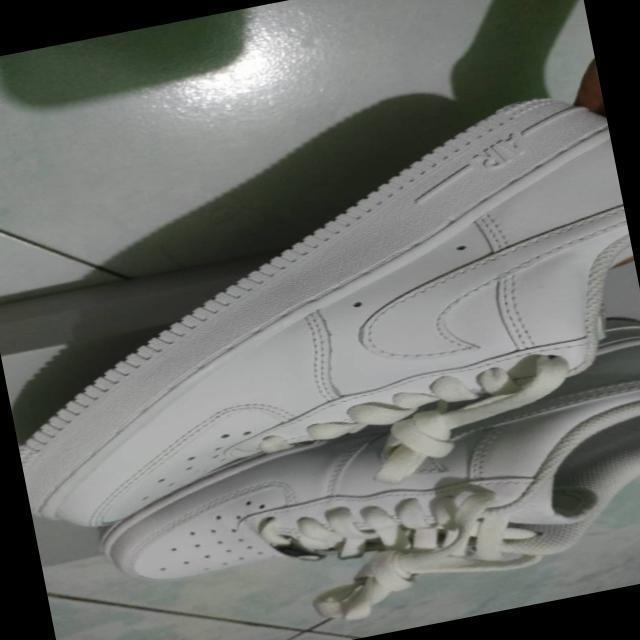nike original air force: (0, 79, 640, 539), (37, 360, 640, 640)
